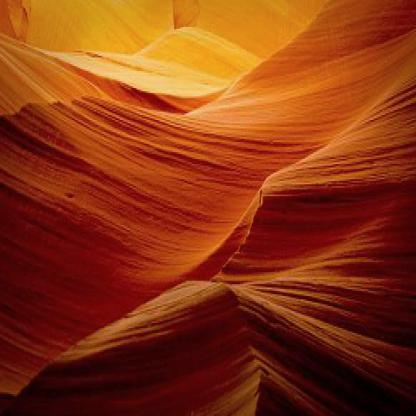Sedimentary_Sandstone: (1, 49, 232, 397), (236, 69, 415, 411)
